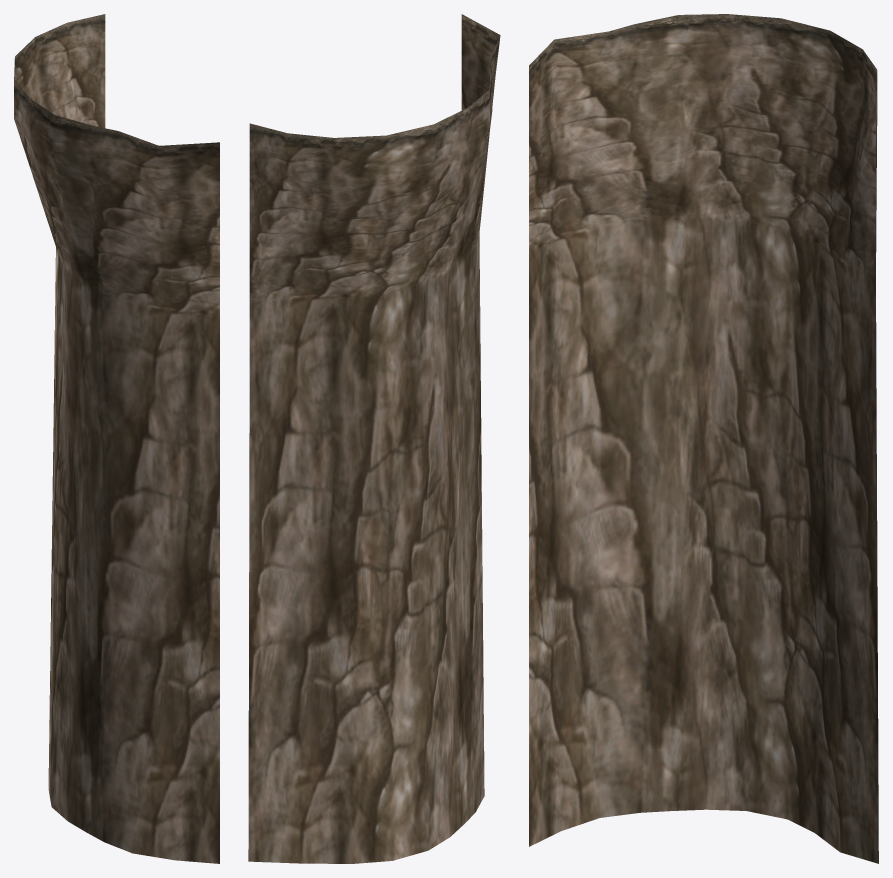
Rendered from OVERHILL_A_01_LINE31.fbx.
The picture shows the model from 3 angles, left to right: view 1: azimuth 30°, elevation 25°; view 2: azimuth 150°, elevation 25°; view 3: azimuth 270°, elevation 25°; orthographic projection. The views are drawn at different scales.
Visible parts, largest first — view 1: OVERHILL_A_01_LINE31; view 2: OVERHILL_A_01_LINE31; view 3: OVERHILL_A_01_LINE31.
Boxes of the visible parts, left/top/right/bottom form: OVERHILL_A_01_LINE31: left=14, top=14, right=219, bottom=863; OVERHILL_A_01_LINE31: left=248, top=14, right=500, bottom=863; OVERHILL_A_01_LINE31: left=529, top=14, right=878, bottom=863.
Bounding box in the file's own units: 33490 × 161470 × 65508.
2 materials, 2 textured.
